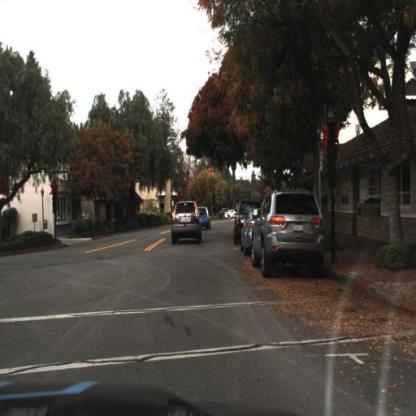car: (250, 191, 327, 281), (231, 197, 266, 249), (170, 200, 202, 249), (241, 207, 262, 257), (195, 206, 212, 232)
